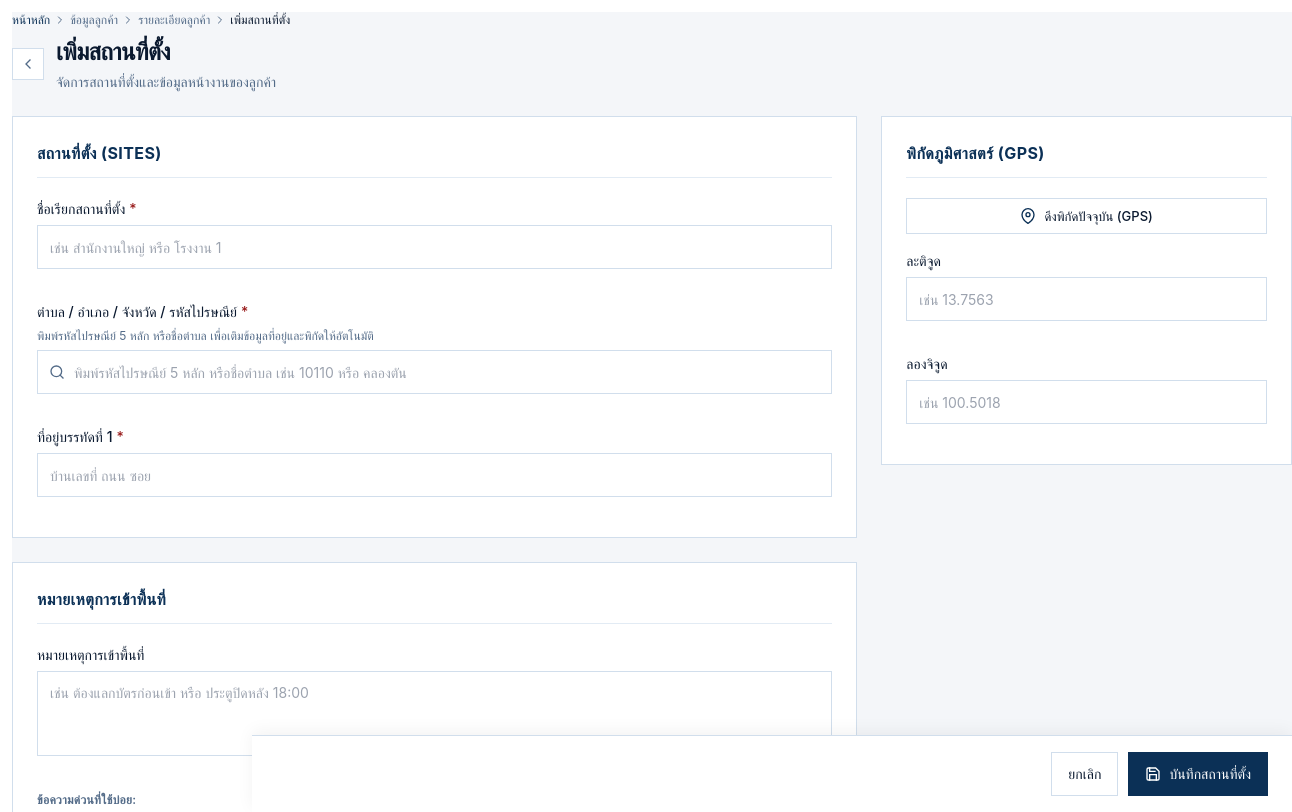
SiteEditor › populates latitude and longitude on get current location click
Click the button "ดึงพิกัดปัจจุบัน (GPS)": (1087, 216) 906,198 -> 1267,234
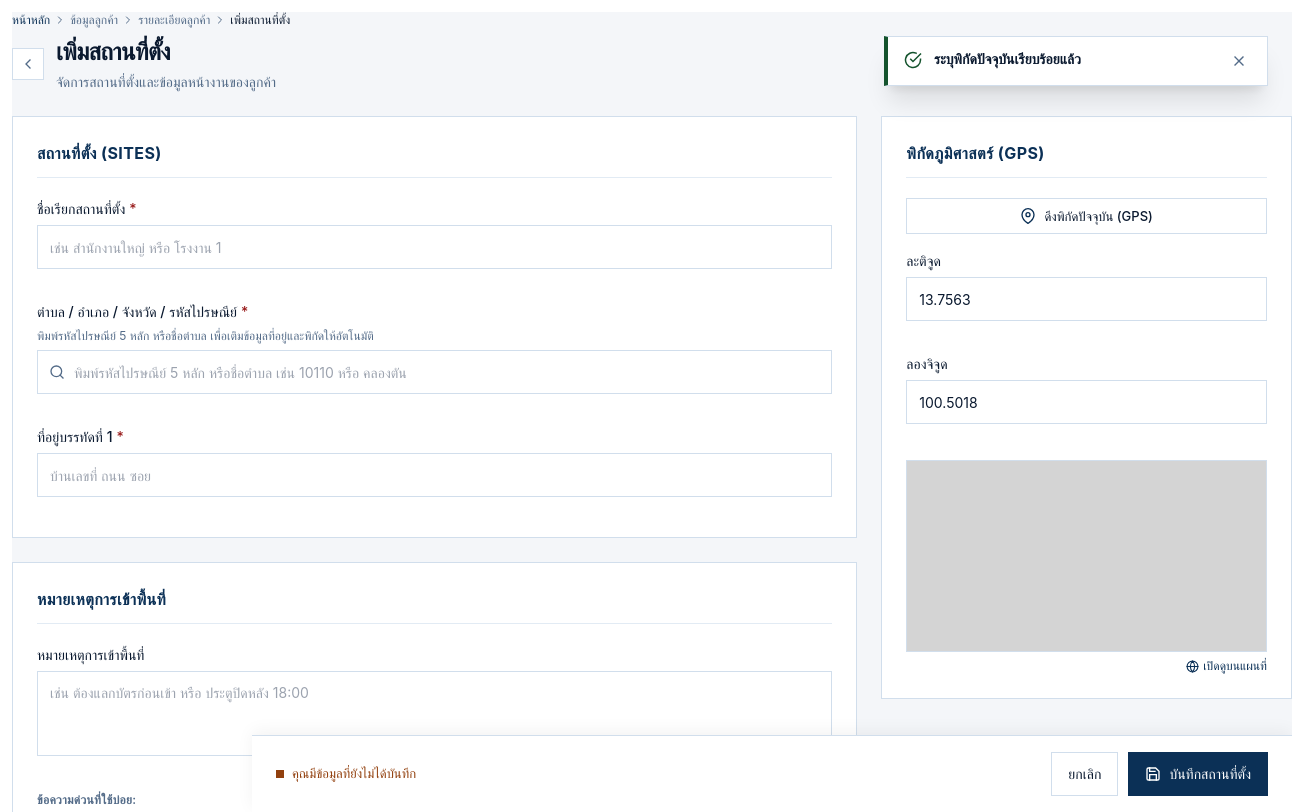
Result: the number field labelled "ละติจูด" holds "13.7563" at 906,277 -> 1267,321
Result: the number field labelled "ลองจิจูด" holds "100.5018" at 906,380 -> 1267,424
